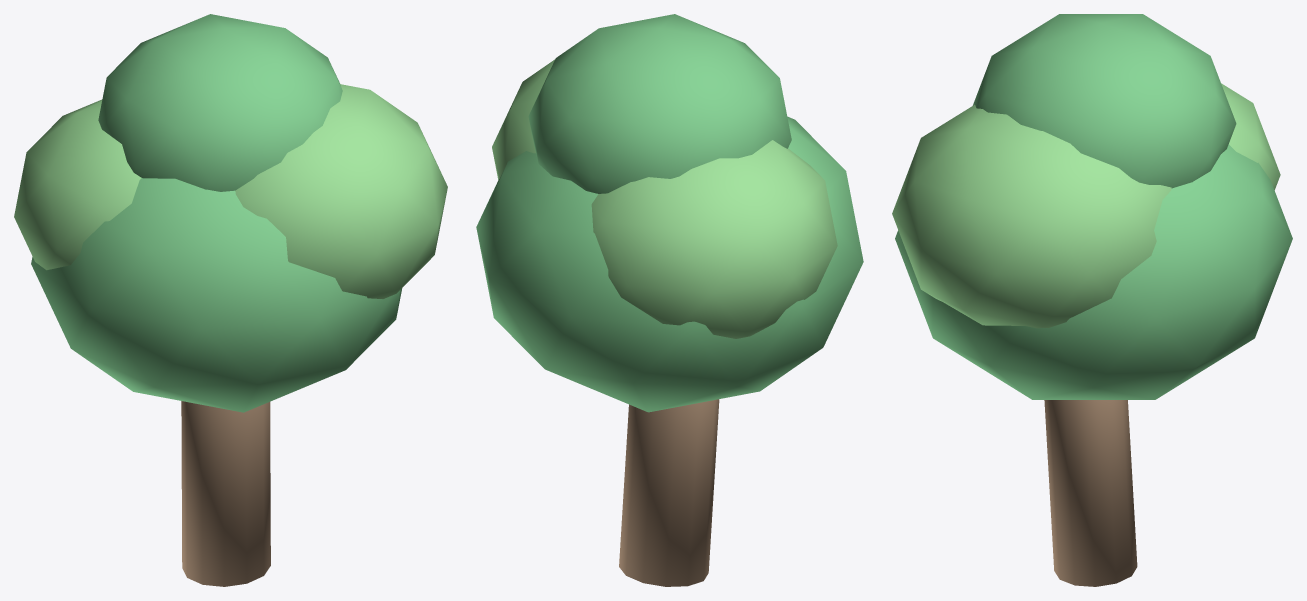
Rendered from tree_stylized.glb.
3 views of the same model, side by side, from view 1: azimuth 30°, elevation 25°; view 2: azimuth 150°, elevation 25°; view 3: azimuth 270°, elevation 25° (orthographic).
Visible parts, largest first — view 1: Foliage_0, Foliage_3, Foliage_1, TreeTrunk, Foliage_2; view 2: Foliage_0, Foliage_2, Foliage_3, TreeTrunk, Foliage_1; view 3: Foliage_1, Foliage_0, Foliage_3, TreeTrunk, Foliage_2.
Part boxes in pixels (<box>): Foliage_0: <box>31,178,402,412</box>; Foliage_3: <box>98,14,342,191</box>; Foliage_1: <box>235,84,447,298</box>; TreeTrunk: <box>181,401,270,586</box>; Foliage_2: <box>14,99,141,270</box>; Foliage_0: <box>476,116,863,412</box>; Foliage_2: <box>591,140,837,338</box>; Foliage_3: <box>528,14,791,193</box>; TreeTrunk: <box>619,399,719,586</box>; Foliage_1: <box>492,59,554,179</box>; Foliage_1: <box>892,104,1171,328</box>; Foliage_0: <box>895,144,1292,399</box>; Foliage_3: <box>972,14,1236,188</box>; TreeTrunk: <box>1044,400,1137,586</box>; Foliage_2: <box>1221,83,1280,190</box>.
Size of the model in its own units: 2.79 by 4.18 by 2.77.
